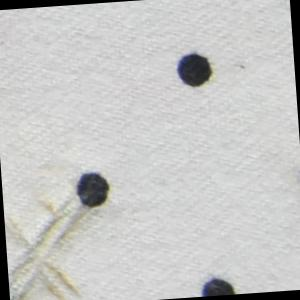Oil Stain: (4, 193, 106, 300)
Stain: (236, 64, 248, 74), (297, 170, 300, 185)
